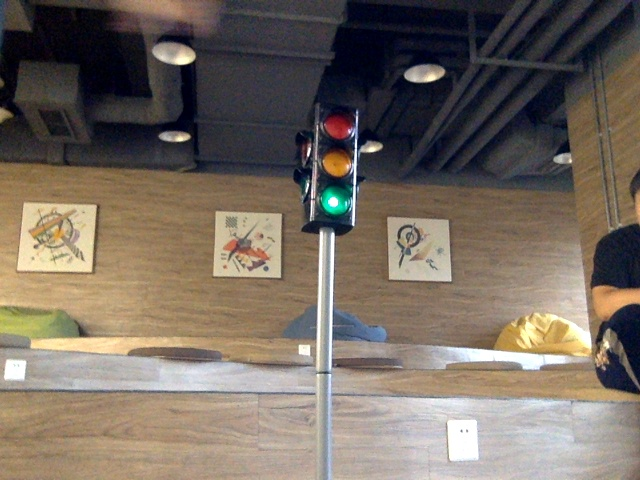green: (314, 111, 353, 218)
